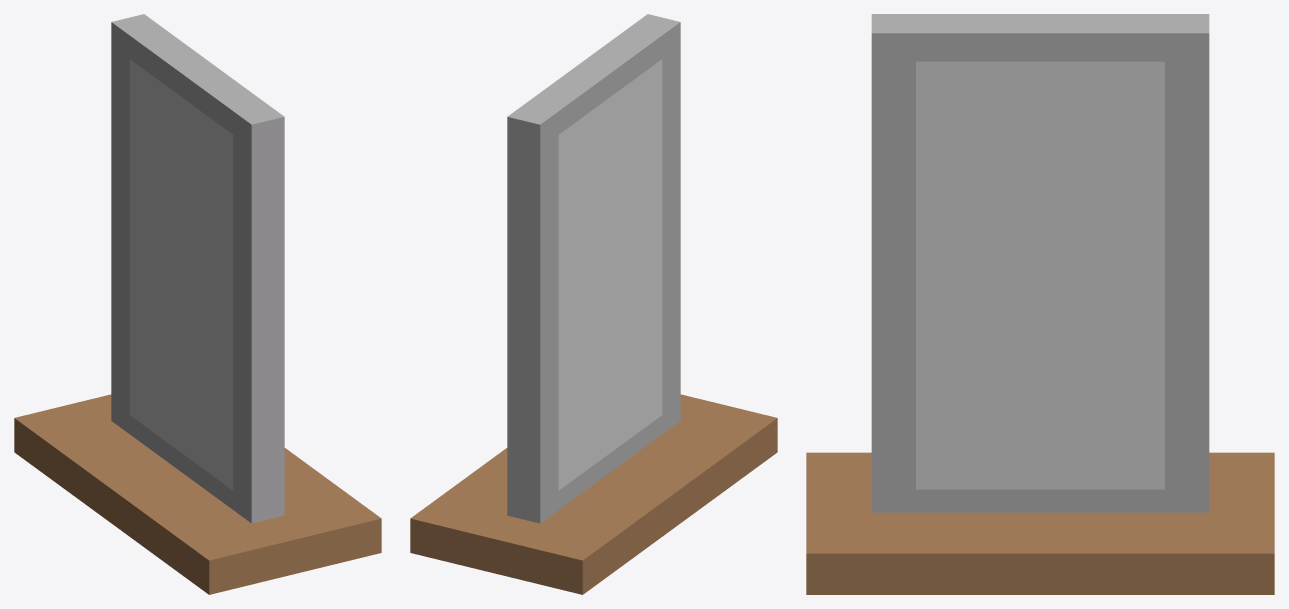
The model's file is SM_receptionBoard_01.glb.
The picture shows the model from 3 angles, left to right: view 1: azimuth 30°, elevation 25°; view 2: azimuth 150°, elevation 25°; view 3: azimuth 270°, elevation 25°; orthographic projection. The views are drawn at different scales.
Visible parts, largest first — view 1: SM_receptionBoard_01; view 2: SM_receptionBoard_01; view 3: SM_receptionBoard_01.
Part boxes in pixels (x1=…): SM_receptionBoard_01: x1=14, y1=14, x2=381, y2=594; SM_receptionBoard_01: x1=410, y1=14, x2=777, y2=594; SM_receptionBoard_01: x1=806, y1=14, x2=1274, y2=594.
Bounding box in the file's own units: 0.1836 × 0.4408 × 0.3594.
1 material, 1 textured.
